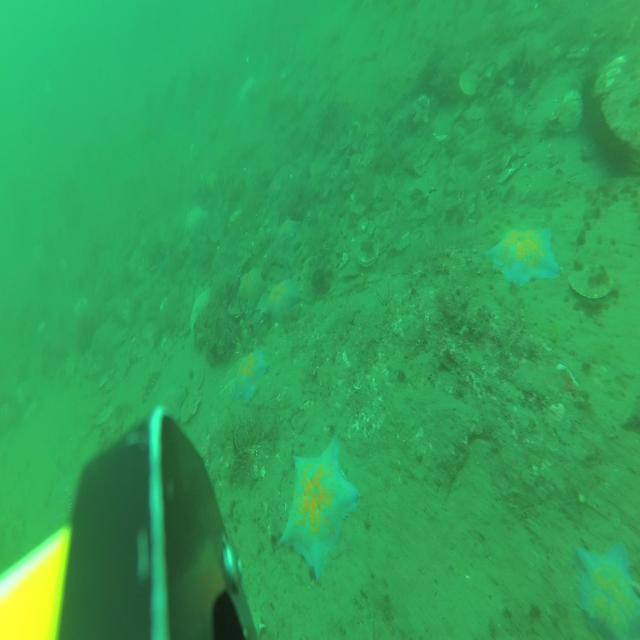echinus: (576, 69, 612, 143), (598, 118, 638, 177)
holothurian: (141, 366, 159, 403)
scallop: (570, 262, 613, 300), (561, 89, 583, 134), (180, 391, 200, 426), (356, 243, 378, 268), (459, 70, 480, 96), (188, 368, 204, 397), (95, 404, 112, 424)
starfish: (280, 434, 358, 583), (575, 538, 640, 640), (483, 226, 562, 286), (234, 346, 270, 404), (265, 276, 299, 327), (237, 264, 265, 316), (160, 383, 188, 424), (279, 218, 301, 244)
